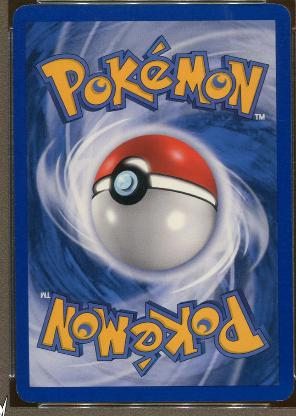Card: (10, 3, 294, 404)
Corner Wear: (14, 381, 36, 403), (273, 392, 292, 402)
Edge Wear: (83, 4, 99, 4)
Scratch: (81, 9, 86, 13), (273, 118, 283, 120)
